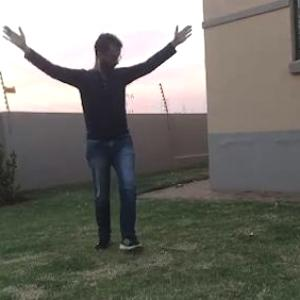takeoff: (1, 0, 216, 263)
